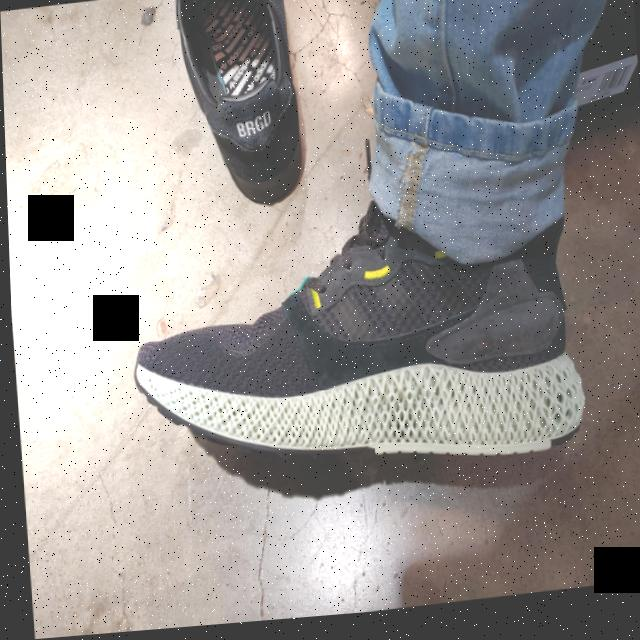shoes: (122, 187, 587, 499), (166, 0, 309, 217)
